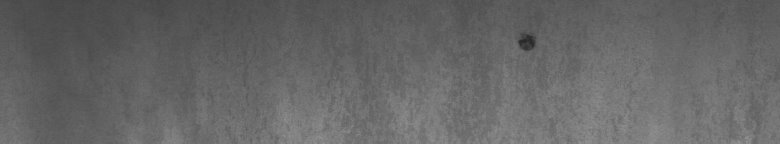fi: (512, 28, 544, 60)
